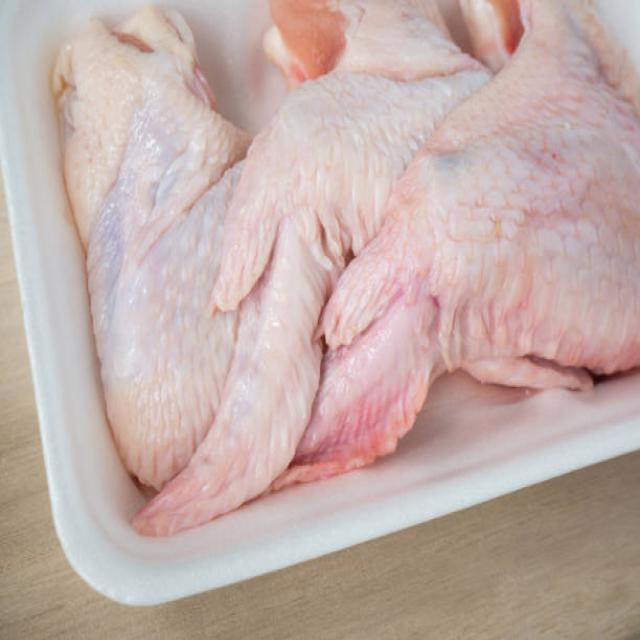Chicken Wing: (203, 8, 640, 446)
